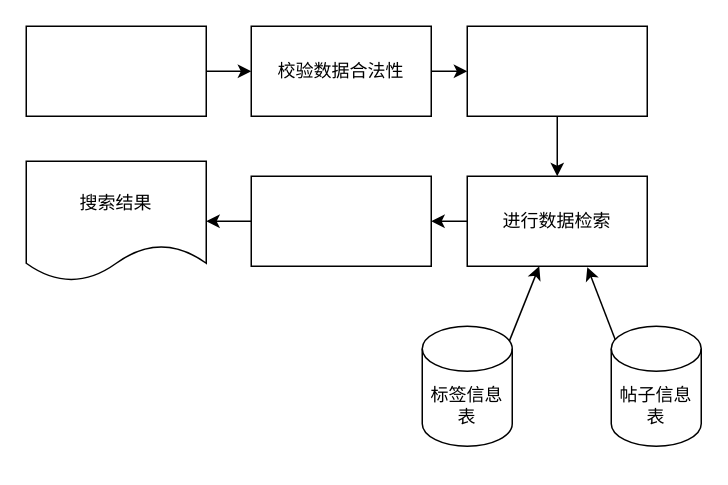
The diagram is 728 pixels wide and 485 high, and some of its shapes have lost their labels. Here are the shapes that lost their labels. From the top down, the centre of each, then its label:
At (x=115, y=70): "用户输入搜索".
At (x=556, y=70): "对输入数据进行分词".
At (x=340, y=220): "整合数据".
